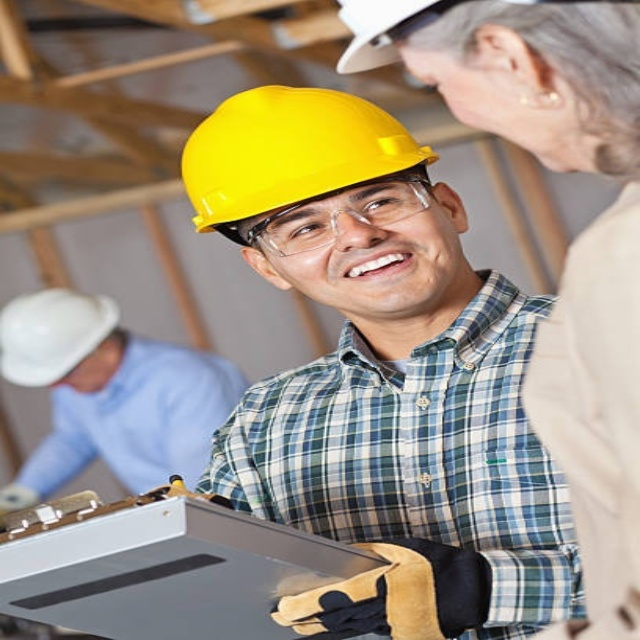Gafas: (245, 168, 438, 258)
Guantes: (278, 531, 485, 637)
Sin_mascara: (333, 245, 427, 302)
